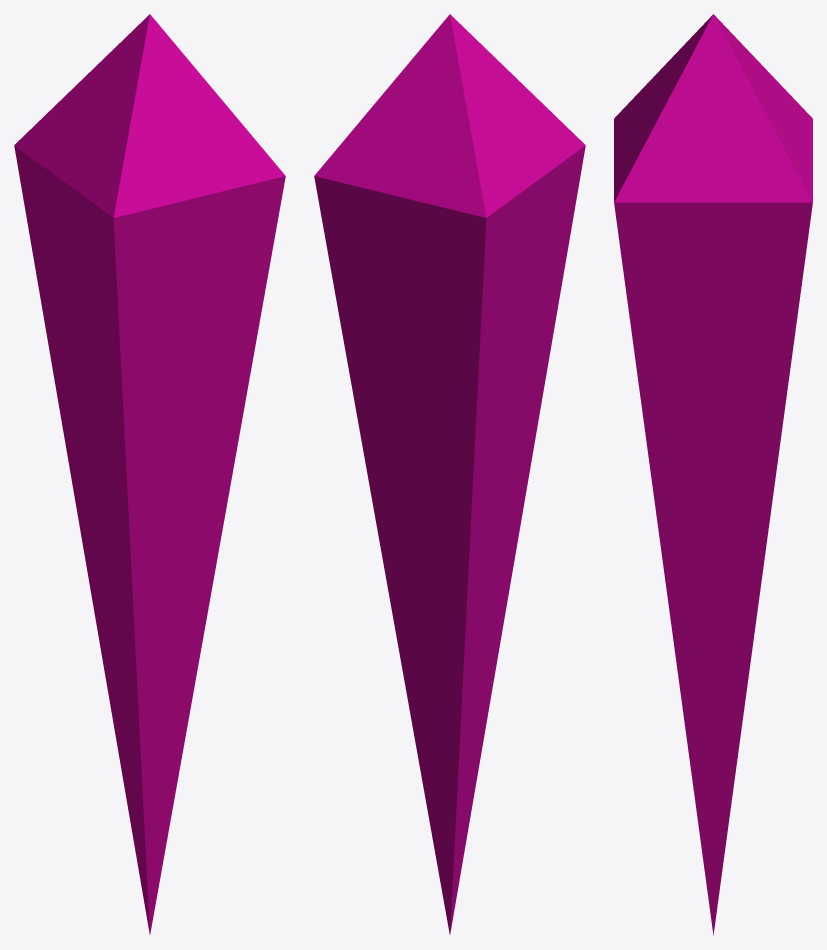
The model's file is ShaleChip.fbx.
The picture shows the model from 3 angles, left to right: view 1: azimuth 30°, elevation 25°; view 2: azimuth 150°, elevation 25°; view 3: azimuth 270°, elevation 25°; orthographic projection.
Parts seen in each view (by area): view 1: Cube; view 2: Cube; view 3: Cube.
Boxes of the visible parts, x1=… form: Cube: x1=14, y1=14, x2=285, y2=934; Cube: x1=314, y1=14, x2=585, y2=934; Cube: x1=614, y1=14, x2=812, y2=935.
Bounding box in the file's own units: 200 × 1023 × 200.
